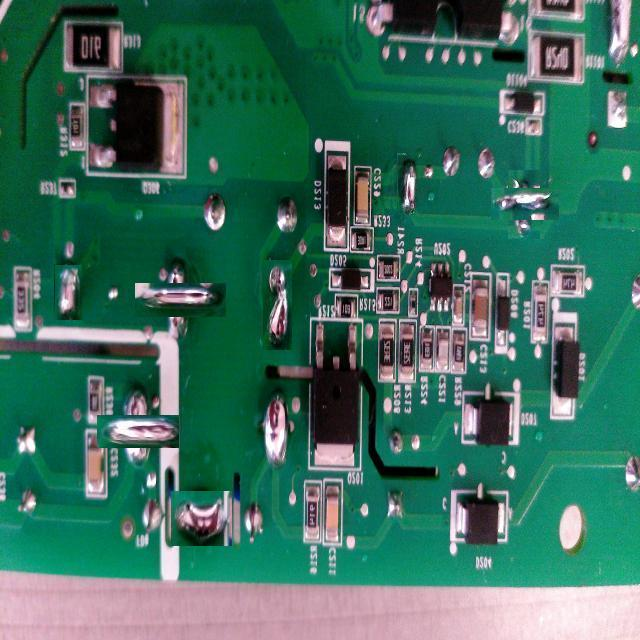Short_circuit: (148, 268, 212, 332), (170, 490, 232, 546), (108, 402, 166, 460), (258, 384, 292, 475), (264, 260, 294, 350), (499, 179, 550, 230), (54, 264, 82, 320), (397, 154, 418, 214)
